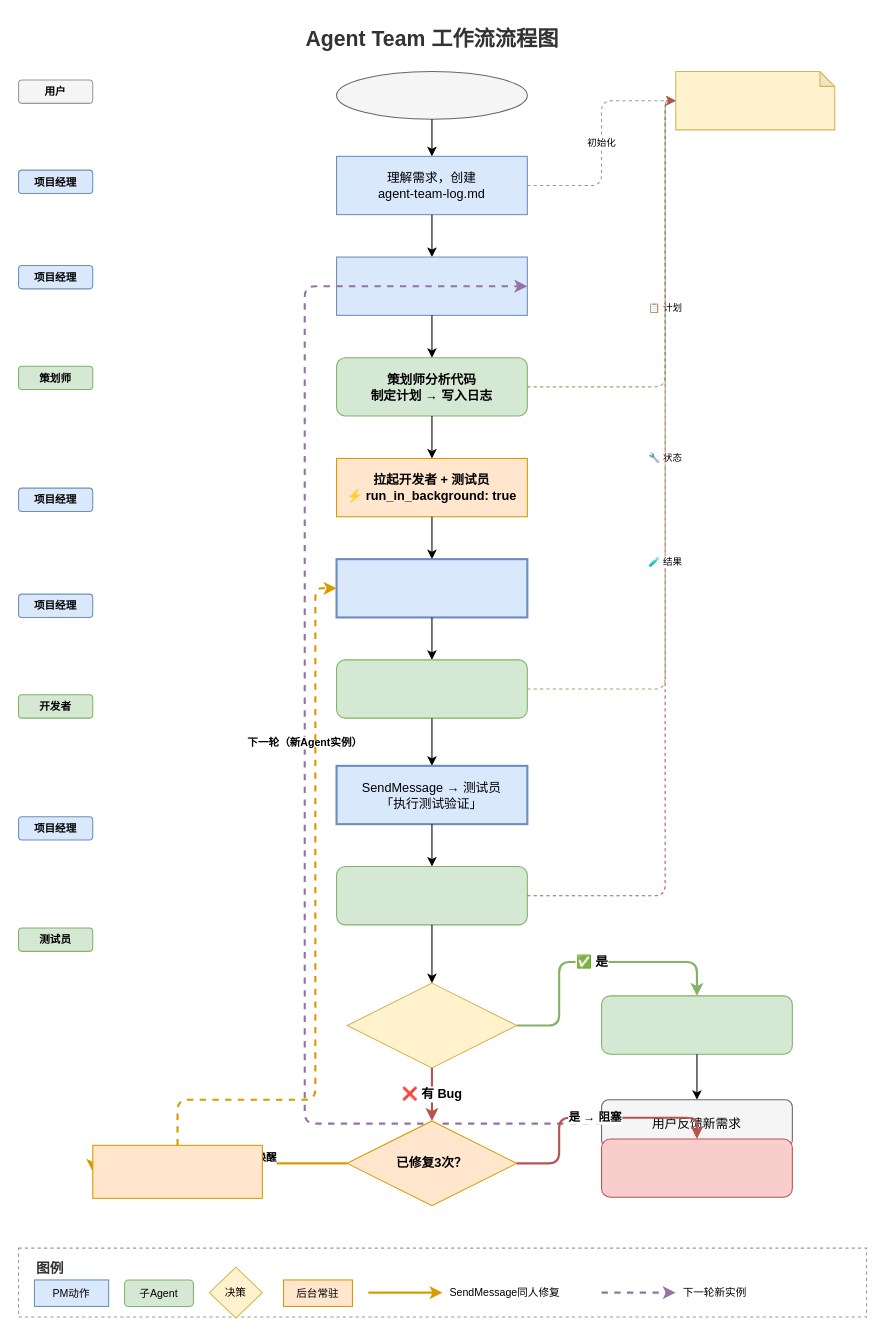
This 885x1337 diagram has some shape labels left out. Each missing label, with the centre of its shape:
"SendMessage → 开发者 「按计划开发代码」" goes at (x=431, y=588).
"全部通过？" goes at (x=431, y=1025).
"同一个人修复！ （上下文完整保留）" goes at (x=177, y=1171).
"向用户报告阻塞 （超过3次仍不通过）" goes at (x=696, y=1167).
"开发者编写代码 更新共享日志" goes at (x=431, y=688).
"拉起策划师 Agent （一次性，只读权限）" goes at (x=431, y=285).
"测试员执行测试 Playwright 截图验证" goes at (x=431, y=895).
"用户提出需求" goes at (x=431, y=94).
"项目经理汇总汇报用户" goes at (x=696, y=1024).
"📄 agent-team-log.md （共享通信日志）" goes at (x=755, y=100).
